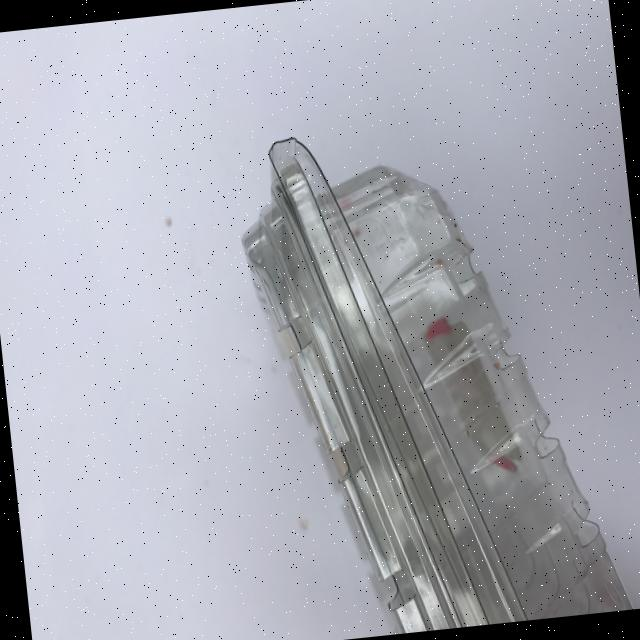plastic: (230, 106, 632, 640)
